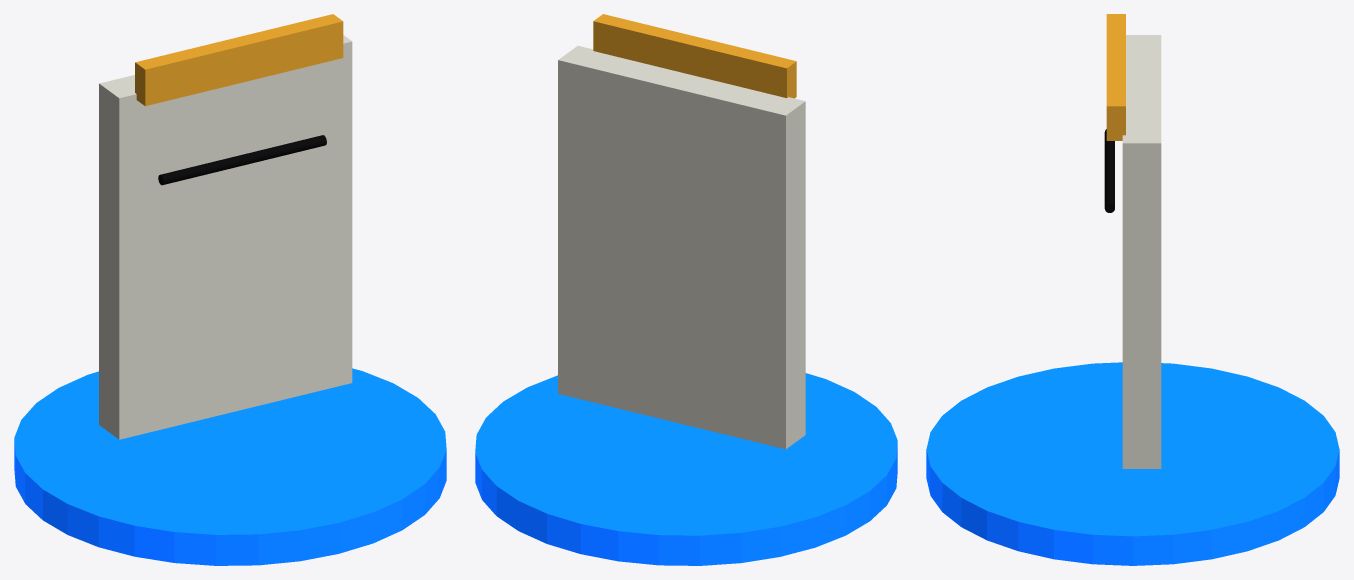
Rendered from news_notepad.dae.
The picture shows the model from 3 angles, left to right: view 1: azimuth 30°, elevation 25°; view 2: azimuth 150°, elevation 25°; view 3: azimuth 270°, elevation 25°; orthographic projection. The views are drawn at different scales.
Visible parts, largest first — view 1: 09_07_Popular_News_Notepad_part_01, 09_07_Popular_News_Notepad_ROOT_base, 09_07_Popular_News_Notepad_part_02, 09_07_Popular_News_Notepad_part_03; view 2: 09_07_Popular_News_Notepad_part_01, 09_07_Popular_News_Notepad_ROOT_base, 09_07_Popular_News_Notepad_part_02; view 3: 09_07_Popular_News_Notepad_ROOT_base, 09_07_Popular_News_Notepad_part_01, 09_07_Popular_News_Notepad_part_02, 09_07_Popular_News_Notepad_part_03.
Part boxes in pixels (bbox=[...]): 09_07_Popular_News_Notepad_part_01: bbox=[99, 35, 352, 439]; 09_07_Popular_News_Notepad_ROOT_base: bbox=[14, 368, 446, 565]; 09_07_Popular_News_Notepad_part_02: bbox=[135, 14, 343, 106]; 09_07_Popular_News_Notepad_part_03: bbox=[158, 135, 326, 185]; 09_07_Popular_News_Notepad_part_01: bbox=[558, 45, 805, 449]; 09_07_Popular_News_Notepad_ROOT_base: bbox=[475, 373, 897, 565]; 09_07_Popular_News_Notepad_part_02: bbox=[593, 14, 796, 98]; 09_07_Popular_News_Notepad_ROOT_base: bbox=[926, 362, 1339, 565]; 09_07_Popular_News_Notepad_part_01: bbox=[1122, 35, 1161, 468]; 09_07_Popular_News_Notepad_part_02: bbox=[1106, 14, 1125, 140]; 09_07_Popular_News_Notepad_part_03: bbox=[1104, 129, 1114, 212].
Bounding box in the file's own units: 0.76 × 0.85 × 0.76.
